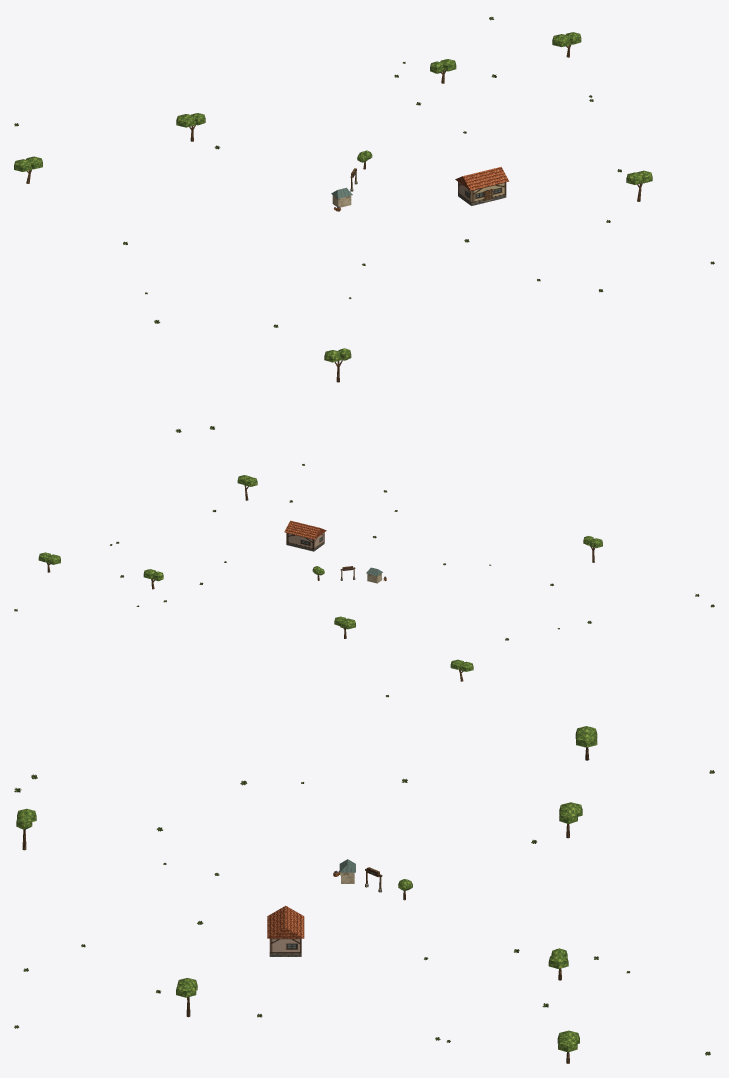
Rendered from FieldCell_2_4.fbx.
The picture shows the model from 3 angles, top to bottom: view 1: azimuth 30°, elevation 25°; view 2: azimuth 150°, elevation 25°; view 3: azimuth 270°, elevation 25°; orthographic projection. The views are drawn at different scales.
Visible parts, largest first — view 1: FieldCell_2_4; view 2: FieldCell_2_4; view 3: FieldCell_2_4.
Boxes of the visible parts, box(x1,y1,x2,y2) form: FieldCell_2_4: box(14, 32, 652, 382); FieldCell_2_4: box(38, 475, 602, 681); FieldCell_2_4: box(16, 726, 597, 1063).
Bounding box in the file's own units: 16639 × 2353 × 13565.
